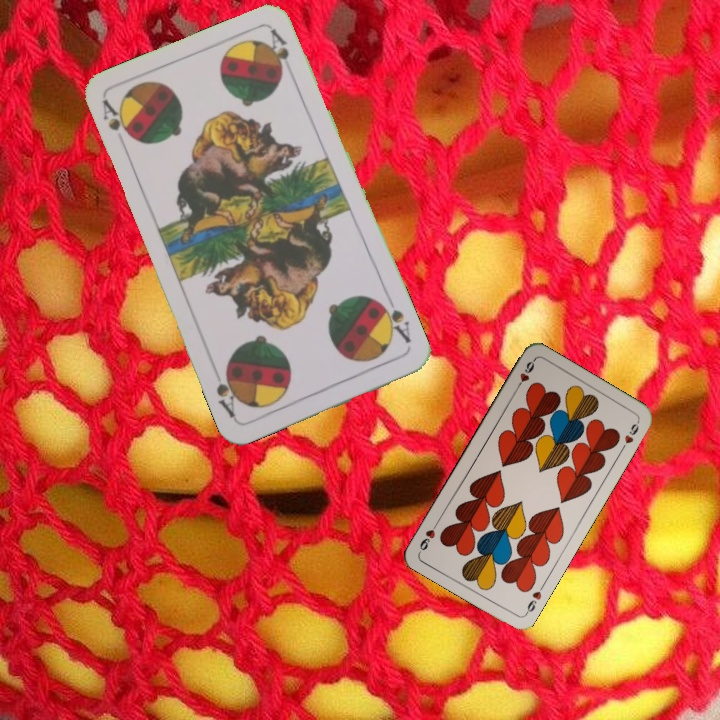H9: (511, 356, 538, 393), (521, 587, 544, 618)
SA: (374, 293, 414, 346), (98, 96, 136, 143)
